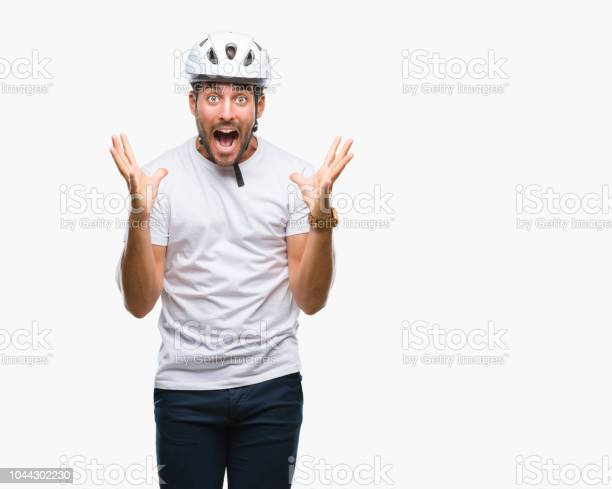helmet: (187, 30, 270, 165)
